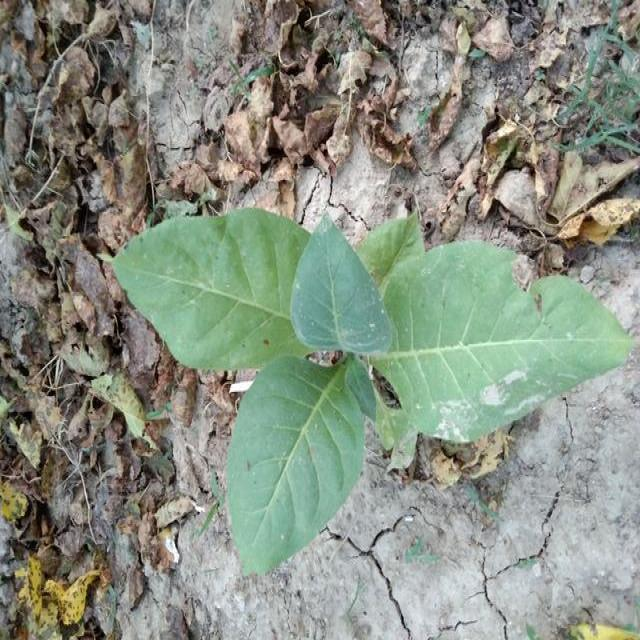crop: (116, 207, 628, 553)
